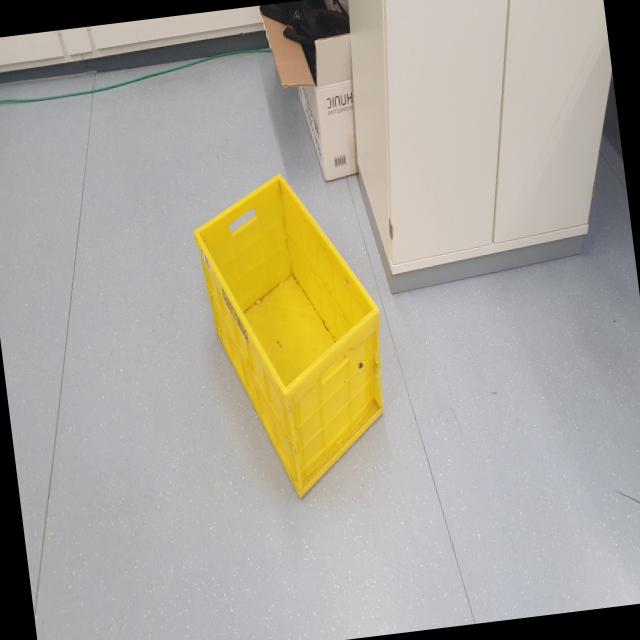box: (184, 151, 403, 519)
